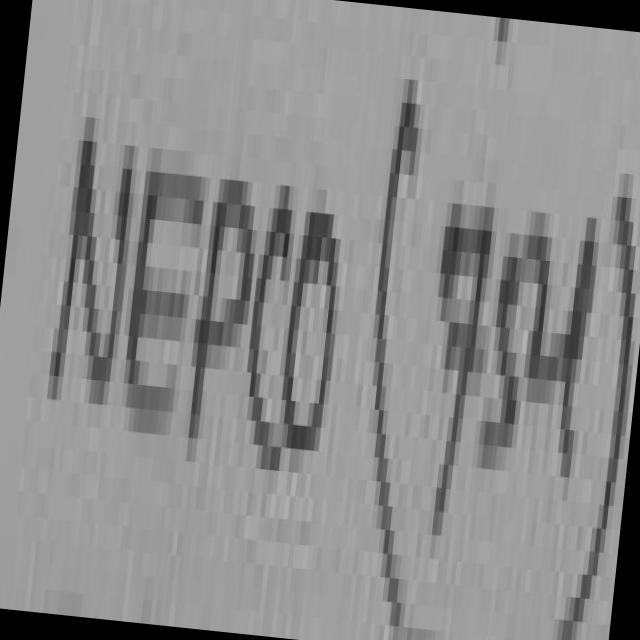5: (482, 242, 532, 458)
7: (437, 227, 490, 523)
E: (127, 171, 202, 432)
N: (53, 152, 130, 404)
O: (282, 212, 339, 439)
P: (189, 180, 255, 426)
c: (250, 209, 293, 469)
